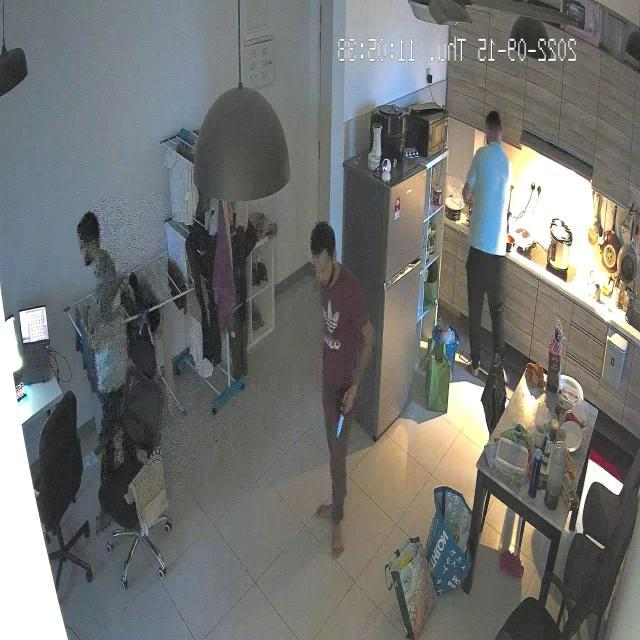Knife: (323, 386, 362, 446)
